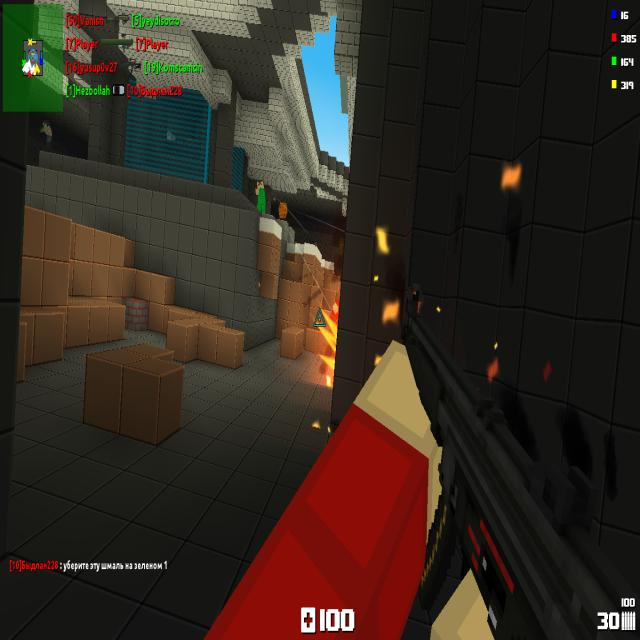enemy: (255, 180, 266, 214), (40, 119, 52, 148)
